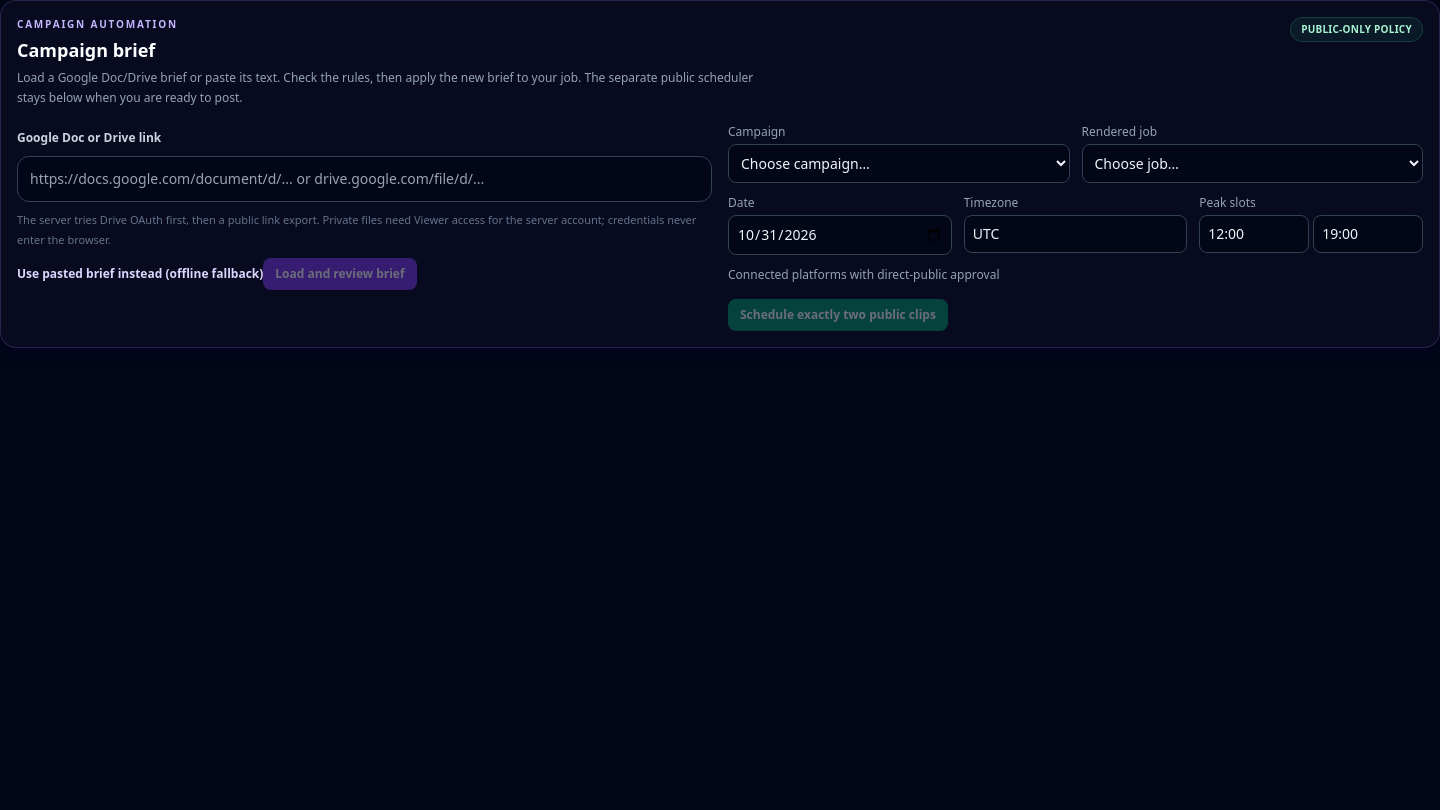
Test case: CampaignAutomationPanel Google Doc import › loads a Drive preset for review, then applies only after explicit confirmation
Type "https://docs.google.com/document/d/brief-12345/edit" into the field labelled "Google Doc or Drive link" at (364, 179), box [17, 156, 712, 202]
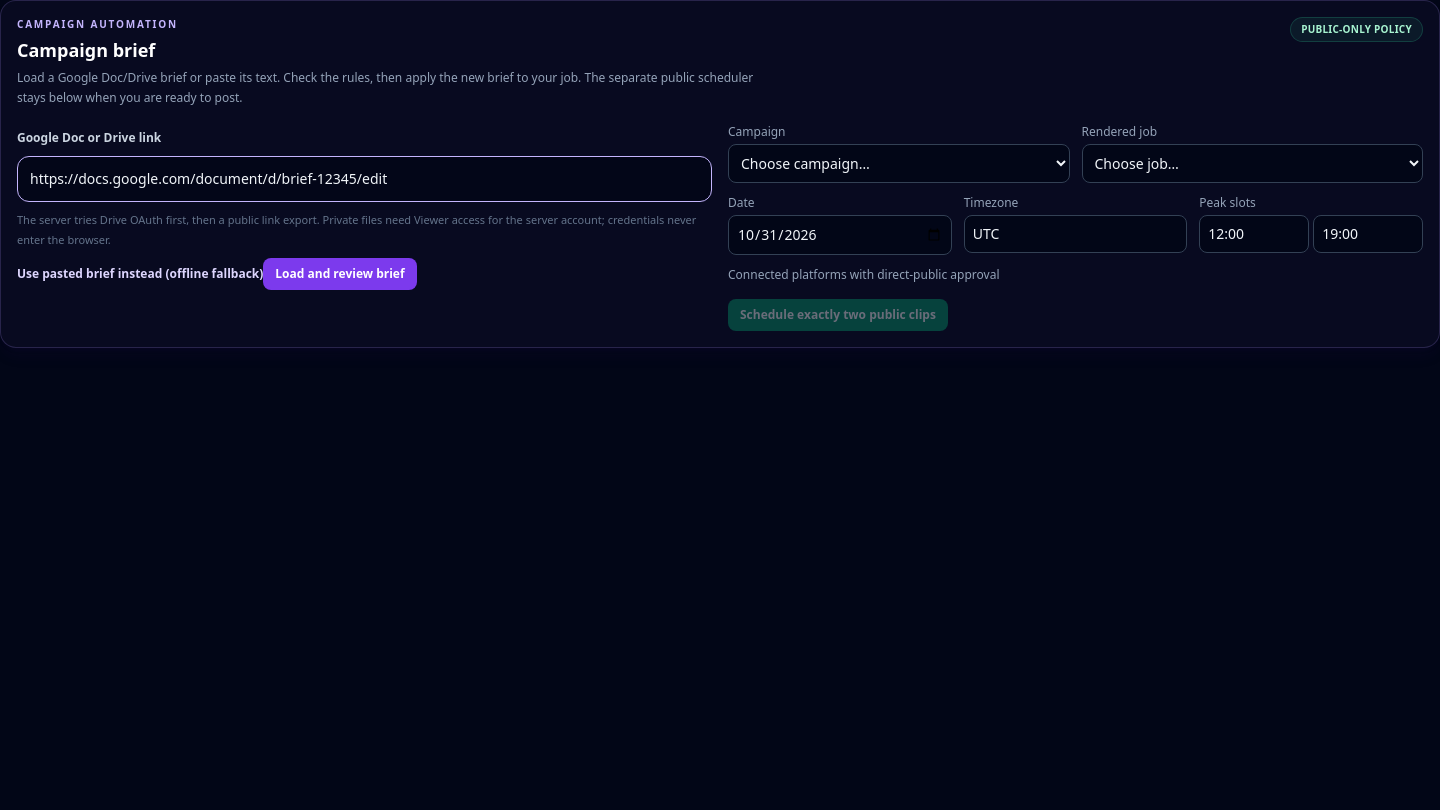
Click the button "Load and review brief" at (340, 274), box [263, 258, 417, 290]
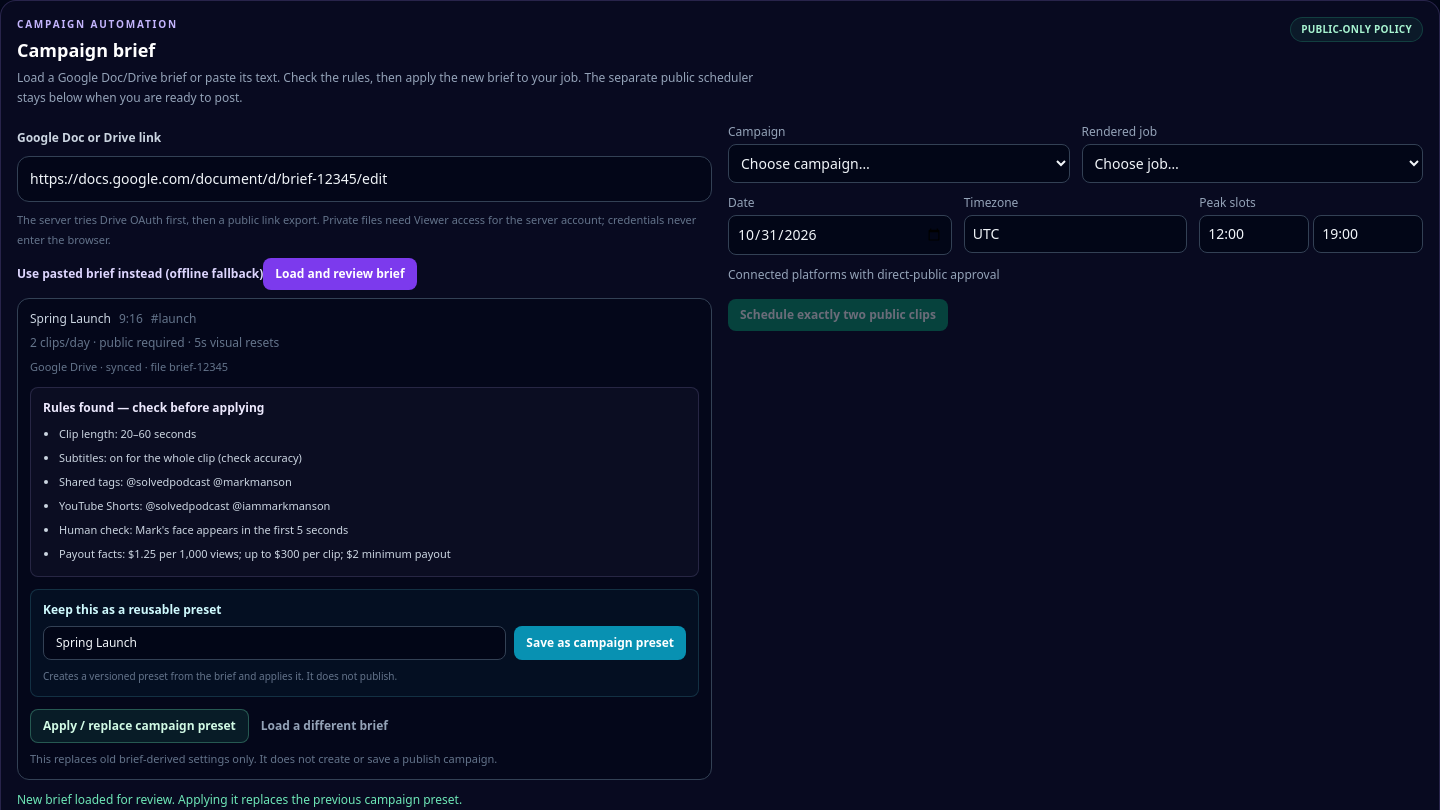
expect the text "Spring Launch" is shown: met, box [30, 311, 111, 327]
expect the element named "Parsed brief rules" shows "20–60 seconds": met, box [59, 426, 196, 441]
expect the element named "Parsed brief rules" shows "Mark's face appears in the first 5 seconds": met, box [59, 522, 348, 537]
Click the button "Apply / replace campaign preset" at (139, 726), box [30, 709, 249, 743]
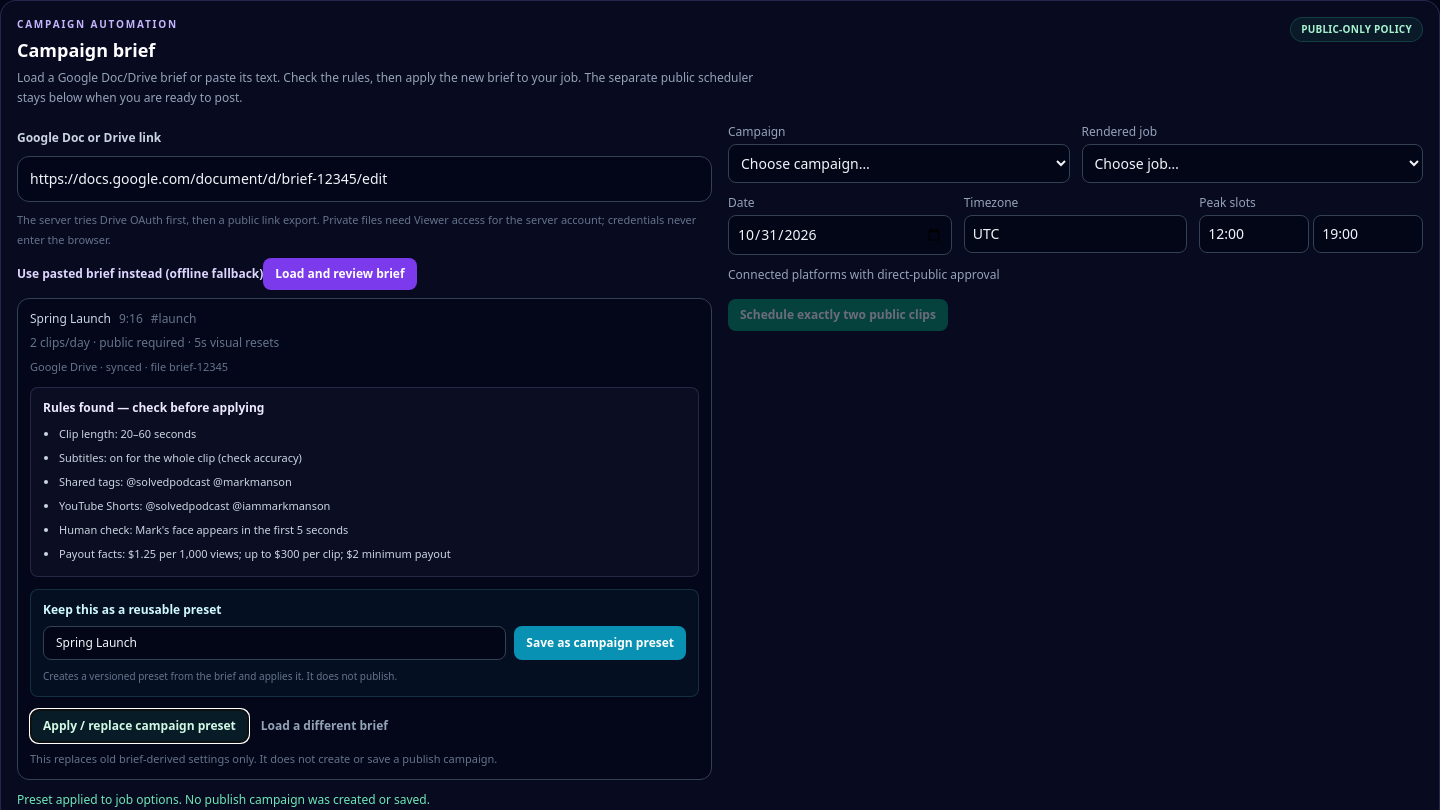
expect the message shows "No publish campaign was created or saved": met, box [17, 791, 430, 808]
